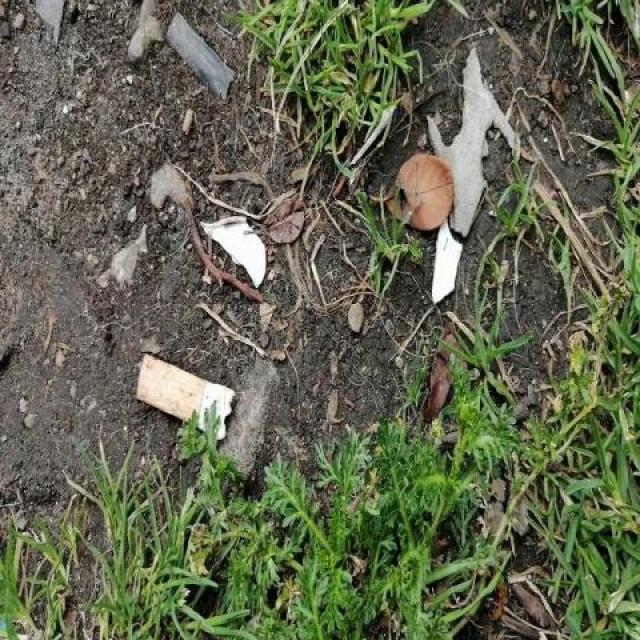non-organic waste: (134, 344, 238, 444)
